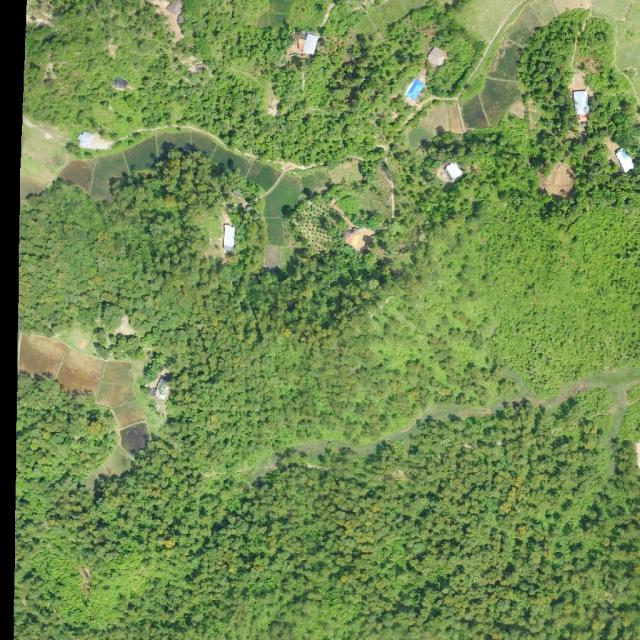agricultural_land: (4, 290, 184, 492), (444, 0, 592, 141), (58, 124, 281, 202), (19, 117, 71, 201), (256, 170, 309, 226), (456, 0, 522, 44), (418, 102, 462, 138), (401, 121, 436, 152), (326, 159, 362, 189), (300, 168, 333, 197), (267, 217, 287, 246)
building: (614, 145, 636, 174), (403, 77, 427, 103), (152, 377, 174, 402), (443, 160, 464, 182), (572, 89, 589, 116), (302, 32, 320, 55), (222, 224, 236, 252)
greenland: (406, 15, 489, 104), (458, 140, 468, 143)
